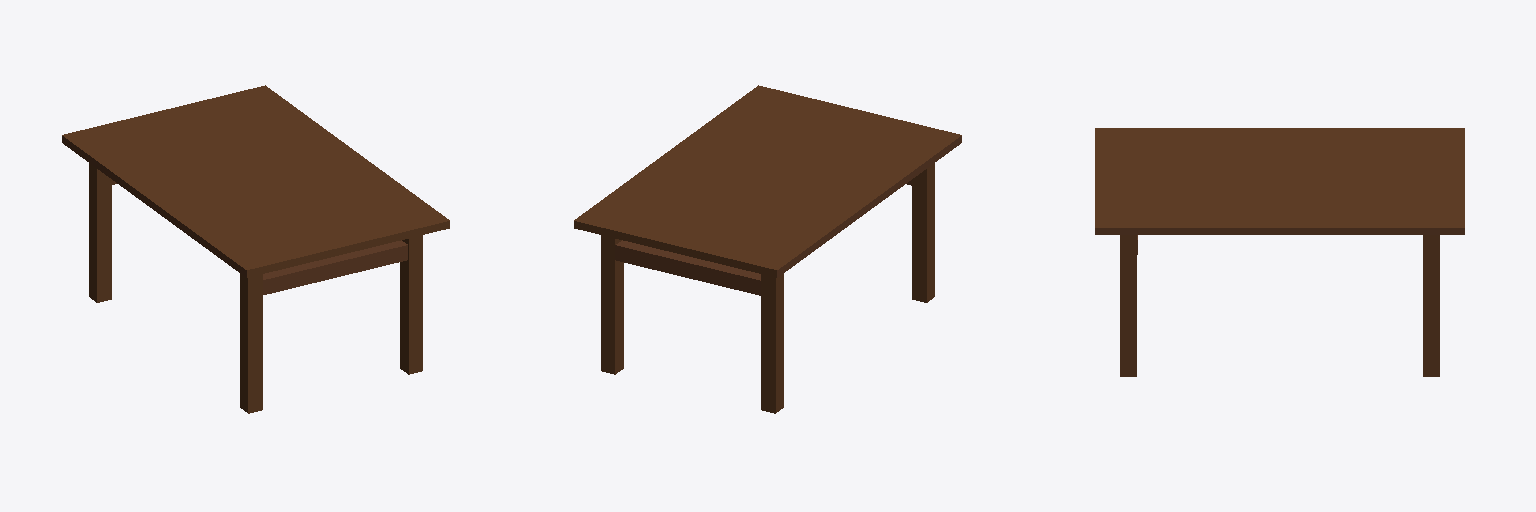
The picture shows the model from 3 angles: view 1: azimuth 30°, elevation 25°; view 2: azimuth 150°, elevation 25°; view 3: azimuth 270°, elevation 25°; orthographic projection.
Parts seen in each view (by area): view 1: Platte, Bein, Stütze_1, Bein_2, Bein_1; view 2: Platte, Stütze, Bein_2, Bein, Bein_3; view 3: Platte, Bein_1, Bein_3.
Part boxes in pixels (x1,y1,x2,y2): Platte: (62,85,449,277); Bein: (240,274,262,413); Stütze_1: (263,240,407,294); Bein_2: (89,163,111,302); Bein_1: (400,235,422,374); Platte: (574,85,961,277); Stütze: (615,240,760,295); Bein_2: (761,274,783,413); Bein: (912,163,934,302); Bein_3: (601,235,623,374); Platte: (1095,128,1464,234); Bein_1: (1120,235,1136,376); Bein_3: (1423,235,1439,376).
Bounding box in the file's own units: 3.43 × 2.51 × 5.4.
Materials: 2 (2 with a texture image).